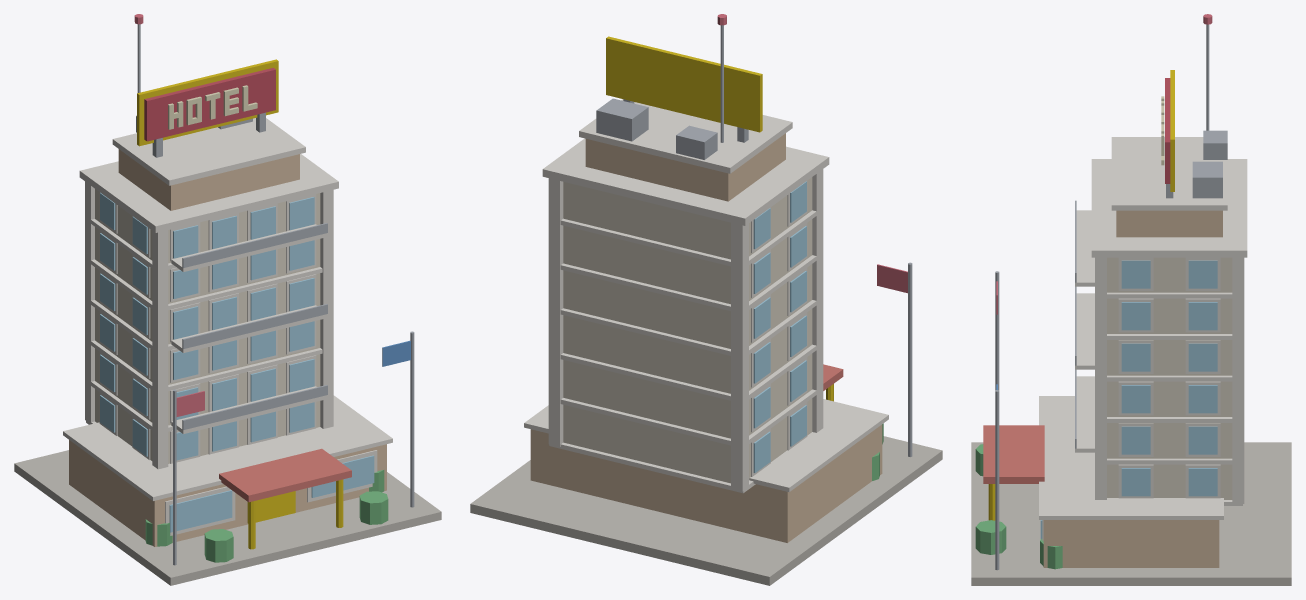
File: hotel_1drawcall.glb
3 renders of one model, left to right at view 1: azimuth 30°, elevation 25°; view 2: azimuth 150°, elevation 25°; view 3: azimuth 270°, elevation 25°, orthographic. The views are drawn at different scales.
Visible parts, largest first — view 1: geometry_0; view 2: geometry_0; view 3: geometry_0.
Boxes of the visible parts, bbox=[...] form: geometry_0: bbox=[14, 14, 441, 585]; geometry_0: bbox=[470, 14, 942, 585]; geometry_0: bbox=[971, 14, 1291, 585].
Size of the model in its own units: 2.1 by 3.44 by 2.1.
